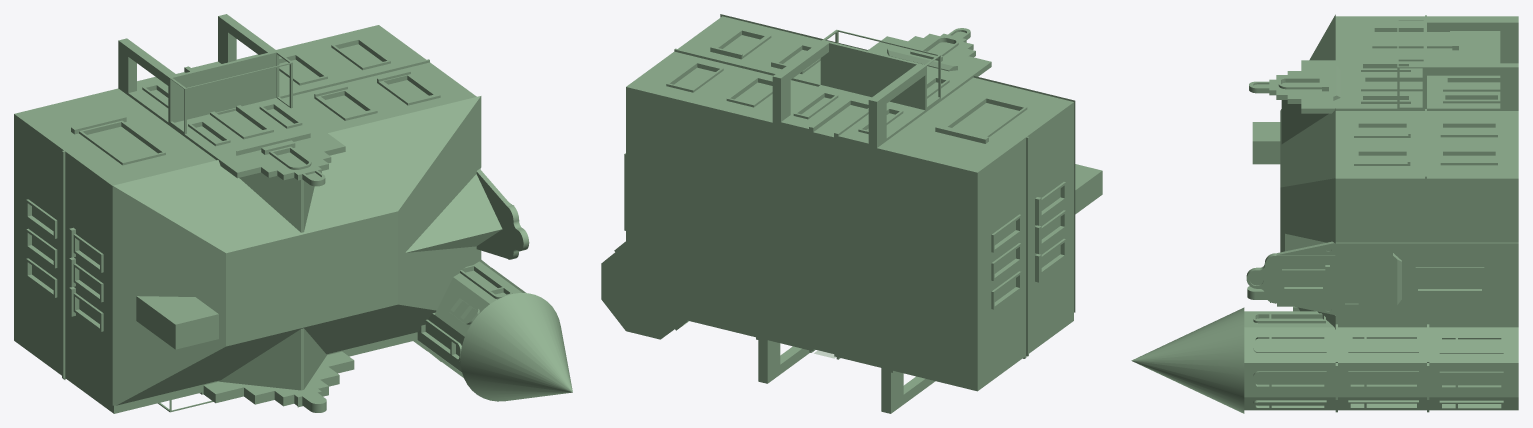
Rendered from urząd gminy gidle Kinga Wypart.obj.
3 renders of one model, left to right at view 1: azimuth 30°, elevation 25°; view 2: azimuth 150°, elevation 25°; view 3: azimuth 270°, elevation 25°, orthographic. The views are drawn at different scales.
Parts seen in each view (by area): view 1: urząd gminy gidle Kinga Wypart\Ciało stałe; view 2: urząd gminy gidle Kinga Wypart\Ciało stałe; view 3: urząd gminy gidle Kinga Wypart\Ciało stałe.
Part boxes in pixels (<box>): urząd gminy gidle Kinga Wypart\Ciało stałe: <box>14,14,572,413</box>; urząd gminy gidle Kinga Wypart\Ciało stałe: <box>601,14,1102,413</box>; urząd gminy gidle Kinga Wypart\Ciało stałe: <box>1131,14,1518,413</box>.
Bounding box in the file's own units: 185 × 141 × 169.
